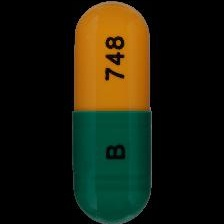63187-735: (0, 0, 224, 224)
